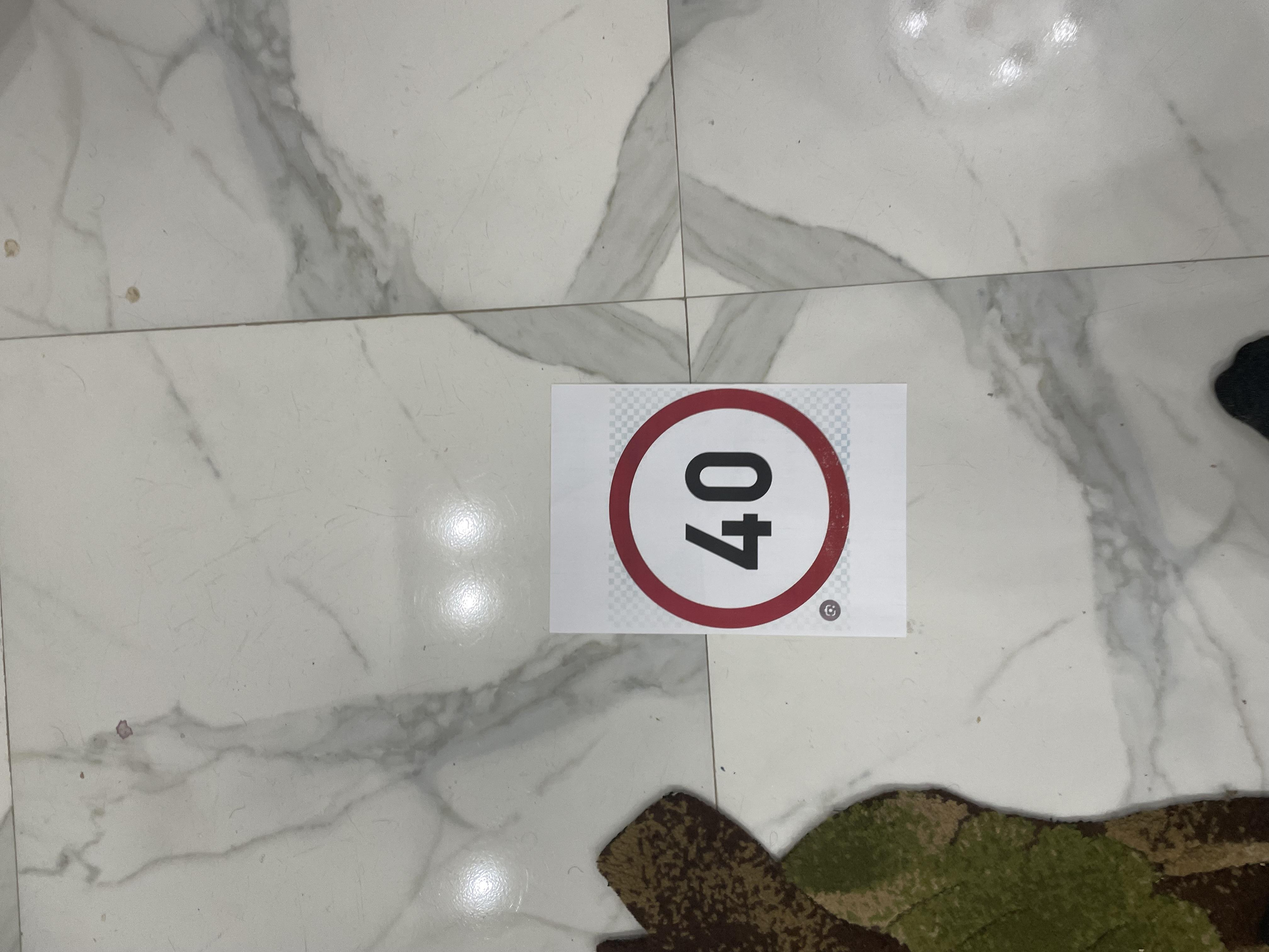40-Speed: (420, 447, 778, 643)
